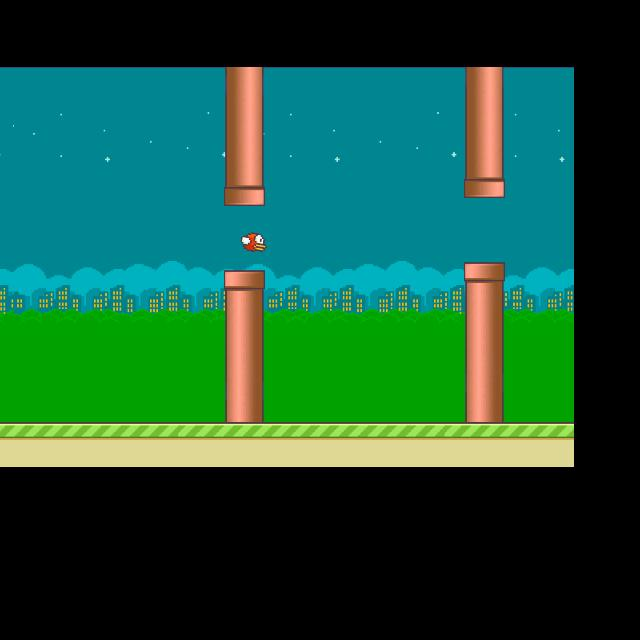bird: (241, 233, 265, 253)
pipedown: (464, 263, 505, 416), (224, 270, 265, 407)
pipeup: (224, 75, 266, 205), (463, 76, 505, 198)
